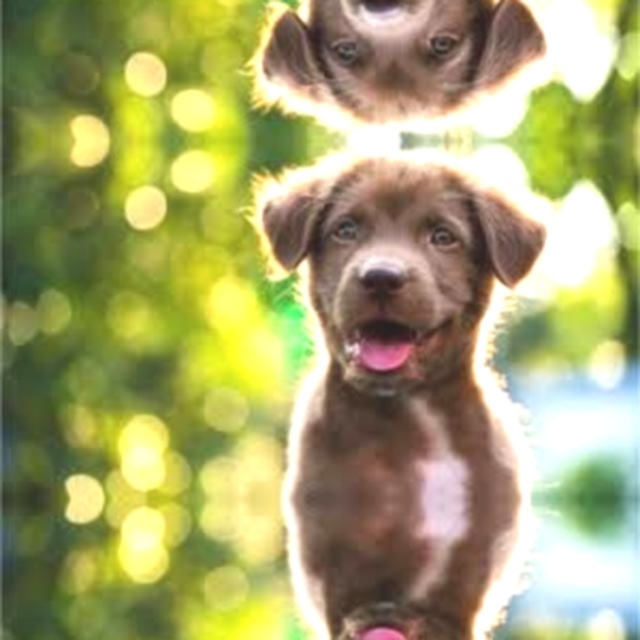dog: (246, 142, 553, 448), (246, 0, 553, 138), (246, 549, 553, 640)
